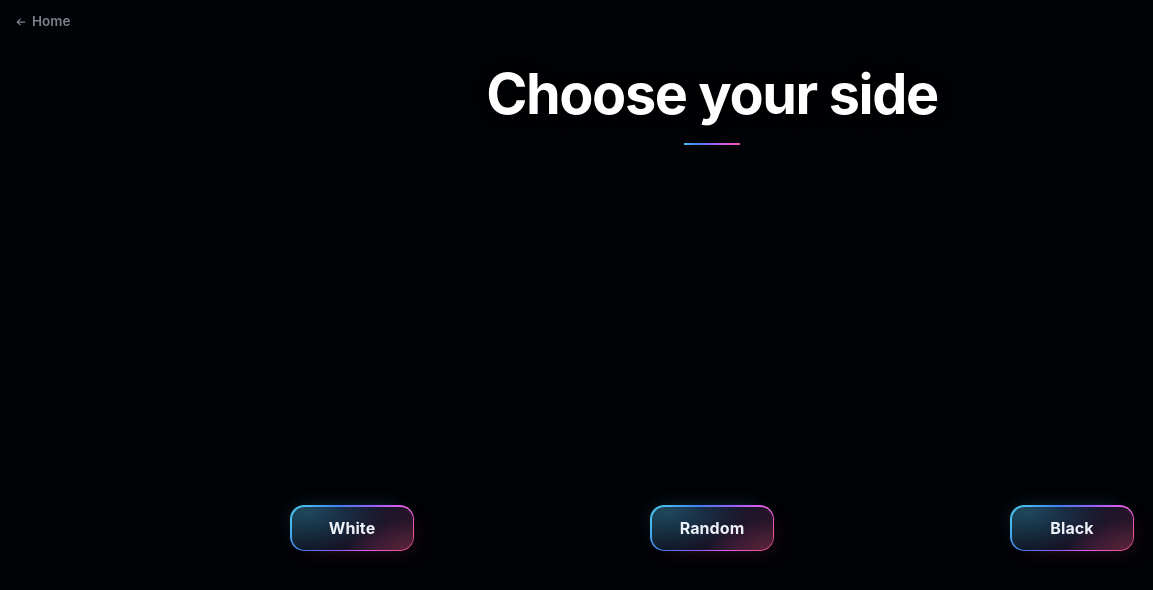
choosing a side › answers a pick of White in its heading at once
Check: the heading reads "Choose your side", box [486,60,938,127]
Click the button "White": click(352, 528) [290,505,414,551]
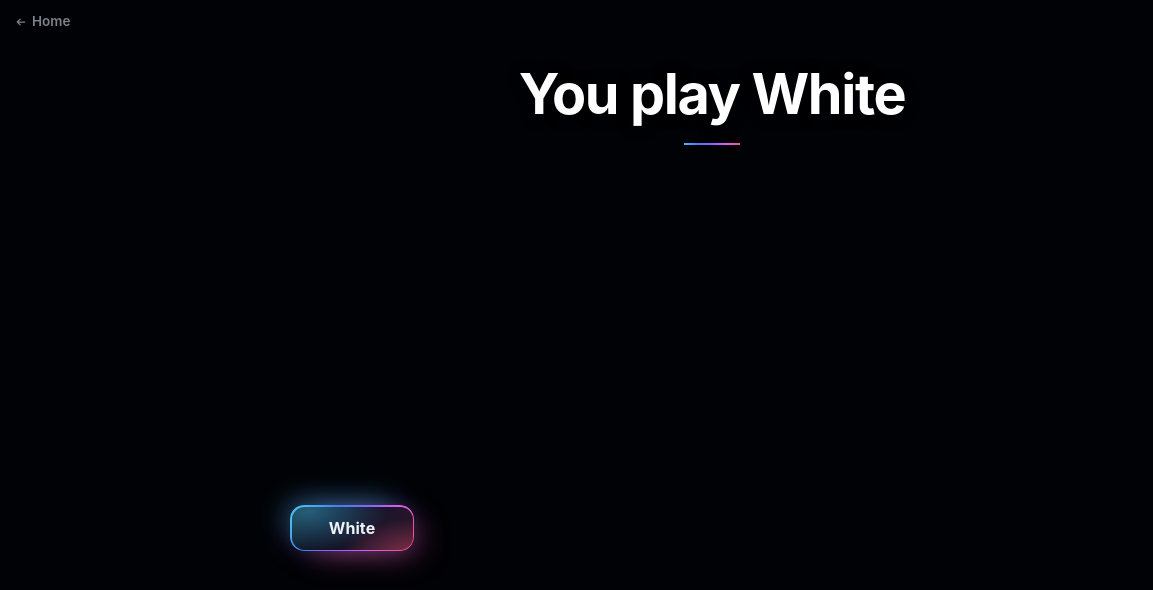
Check: the heading reads "You play White", box [519,60,905,127]
